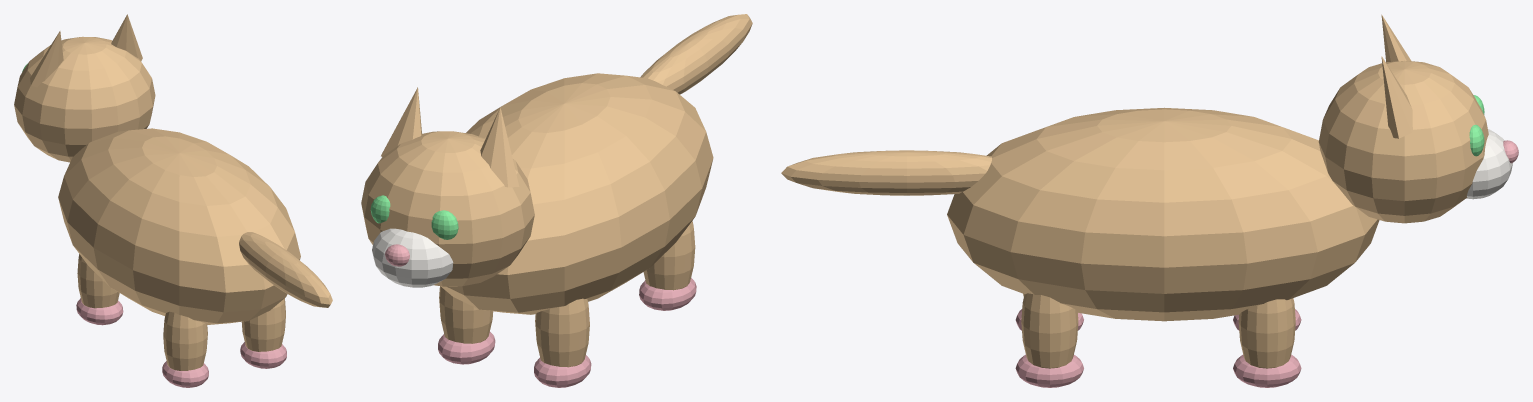
File: variant_cat_calico.glb
3 renders of one model, left to right at view 1: azimuth 30°, elevation 25°; view 2: azimuth 150°, elevation 25°; view 3: azimuth 270°, elevation 25°, orthographic. The views are drawn at different scales.
Visible parts, largest first — view 1: Cat; view 2: Cat; view 3: Cat.
Boxes of the visible parts, x1=… form: Cat: x1=14, y1=14, x2=332, y2=387; Cat: x1=361, y1=14, x2=752, y2=387; Cat: x1=781, y1=14, x2=1518, y2=387.
Size of the model in its own units: 0.3369 by 0.48 by 0.9878.
